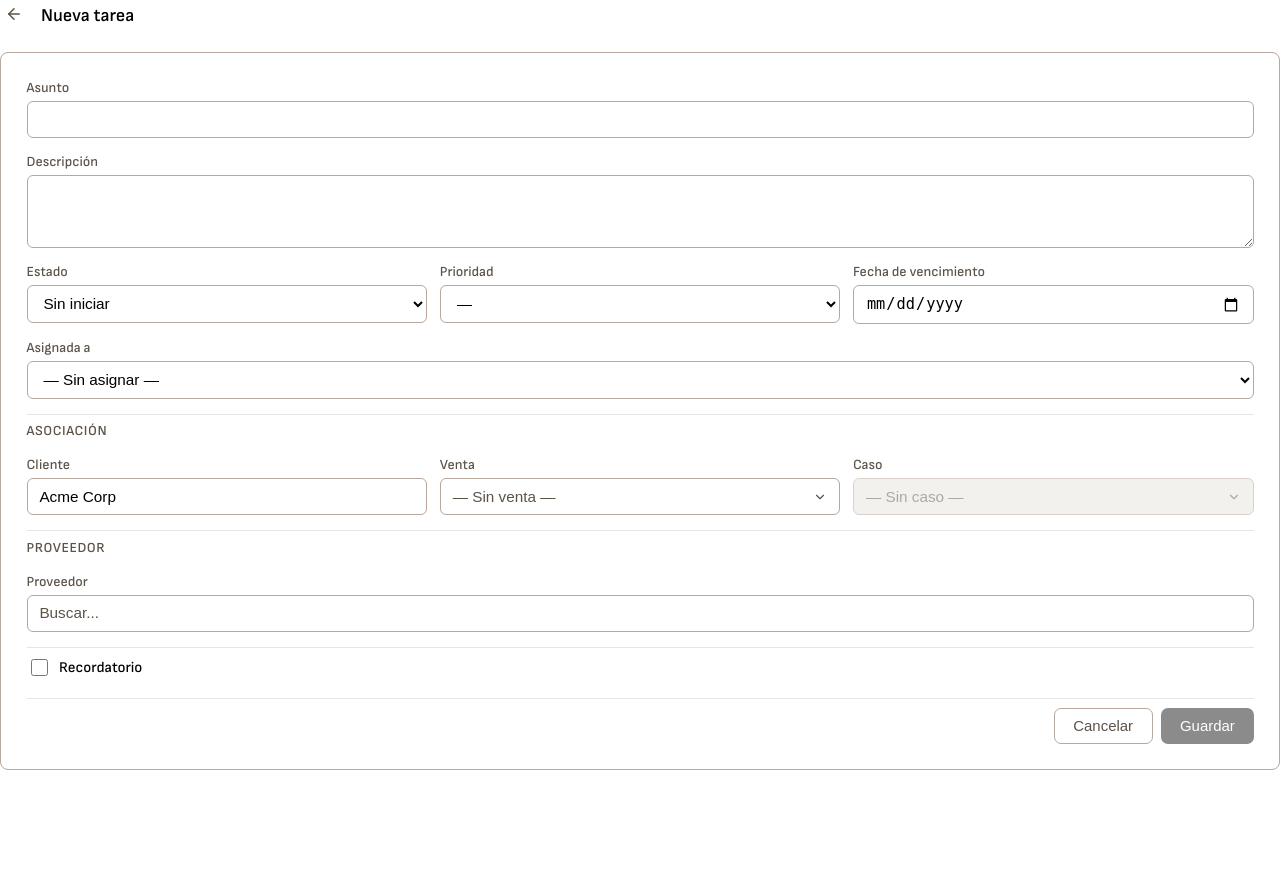
Test: TaskForm › shows reminder fields when checkbox is ticked
This screenshot has width=1280, height=883.
Click the checkbox: (39, 668) left=30, top=659, right=48, bottom=676
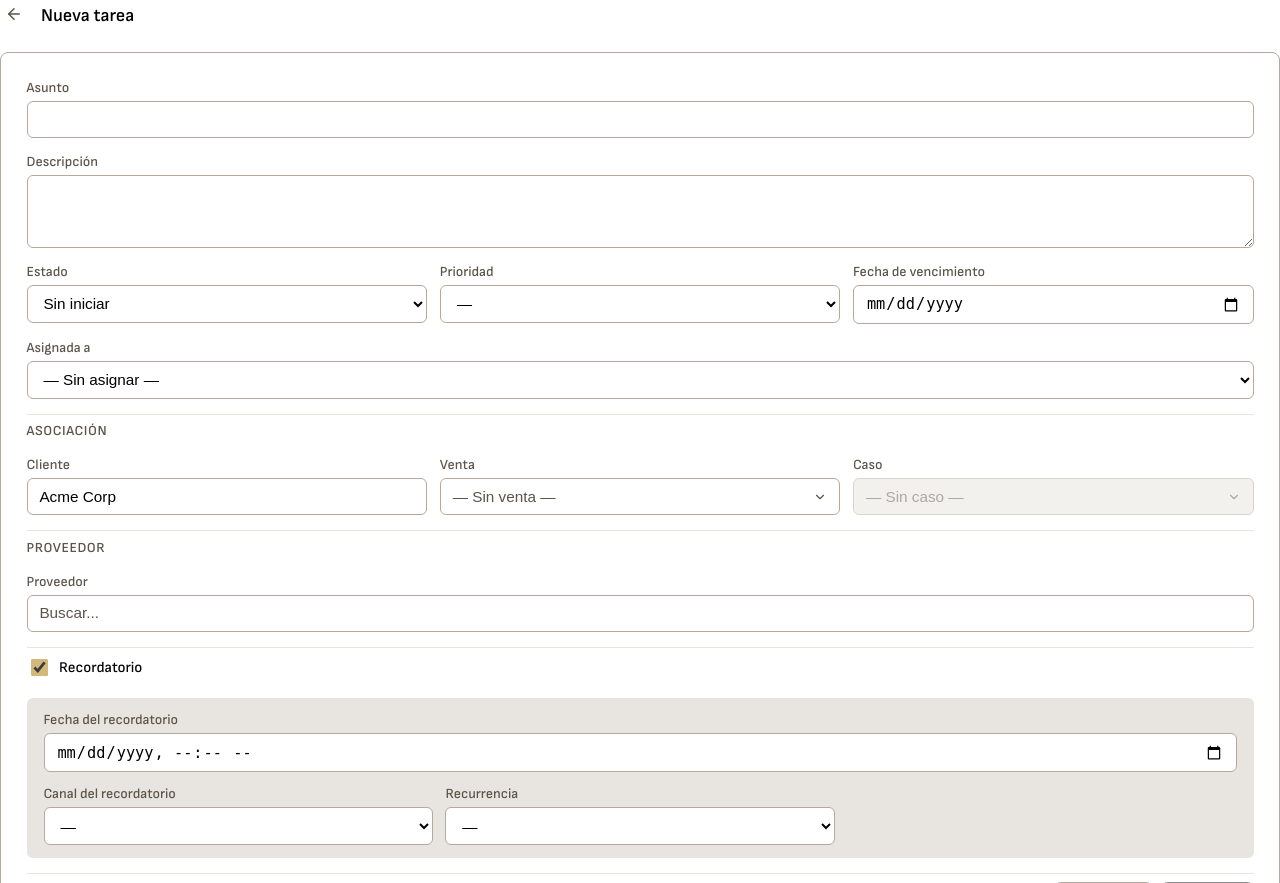
Expected: the field labelled "Fecha del recordatorio" is shown, left=44, top=733, right=1236, bottom=772
Expected: the dropdown labelled "Canal del recordatorio" is shown, left=44, top=807, right=433, bottom=845
